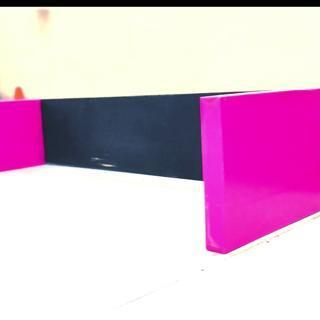xparking: (201, 96, 320, 234), (0, 102, 40, 168)
